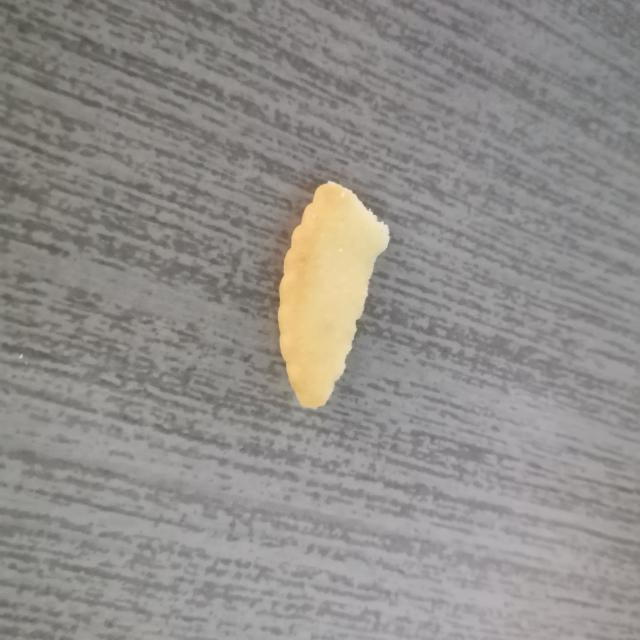Broken: (277, 180, 391, 409)
